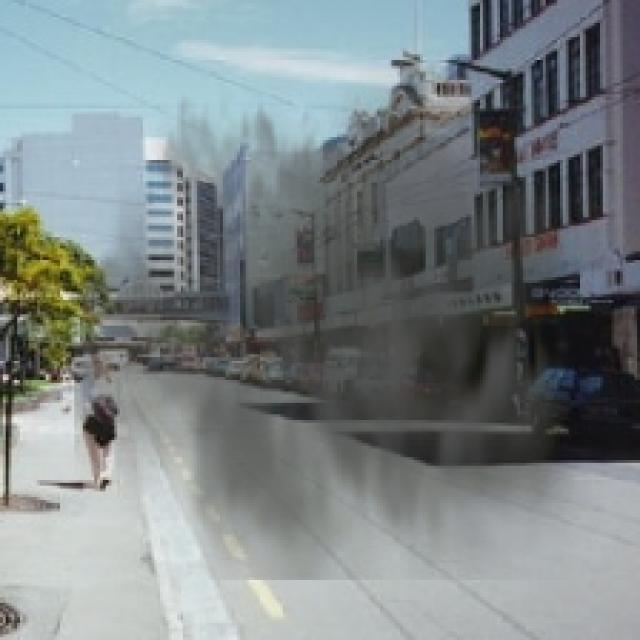Smoke: (74, 46, 606, 580)
